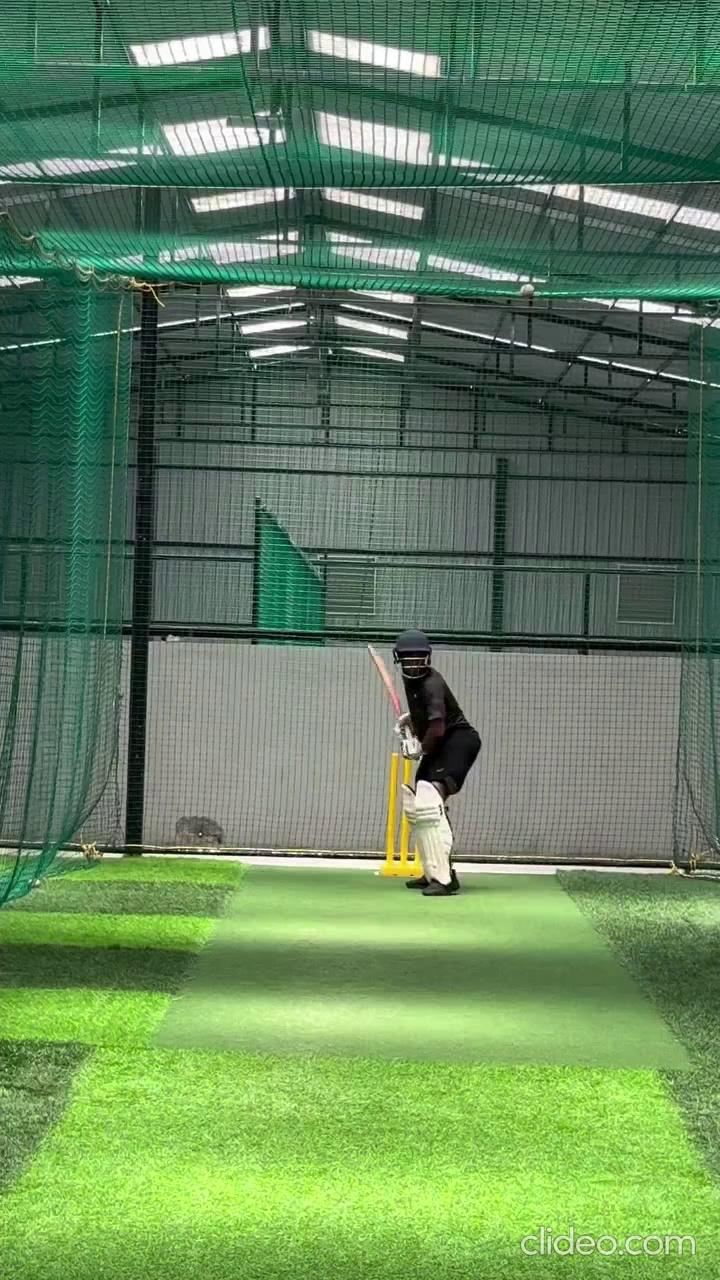bat: (363, 640, 406, 716)
